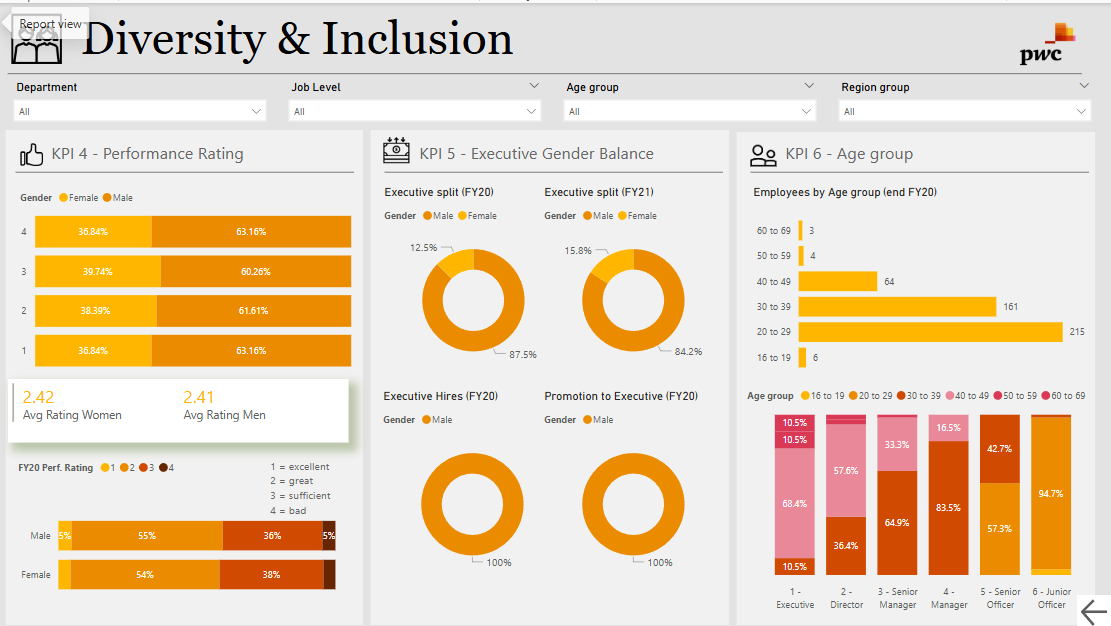

Layout of this report page (visuals, bound fields, positions):
{"tool":"powerbi","page":{"name":"HR Manager (2/2)","canvas":[1280,720],"ordinal":1},"visuals":[{"type":"basicShape","box":[3.9,139.9,418.6,579.7],"z":0},{"type":"slicer","fields":{"Values":["HR Manager.Job Level after FY20 promotions"]},"box":[322.5,83.9,310,55.9],"z":1000},{"type":"slicer","fields":{"Values":["HR Manager.Age group"]},"box":[638.2,83.9,310,55.9],"z":2000},{"type":"textbox","box":[88.7,4.8,1172.9,75.2],"z":3000},{"type":"basicShape","box":[0,60.8,1253,40.5],"z":4000},{"type":"basicShape","box":[422.2,139.6,420,579.7],"z":5000},{"type":"basicShape","box":[9.5,174.9,408,39.5],"z":6000},{"type":"textbox","box":[54.6,154.4,315.4,35.7],"z":7000},{"type":"multiRowCard","fields":{"Values":["HR Manager.Avg Rating Women","HR Manager.Avg Rating Men"]},"box":[10.1,431.1,390.9,72.6],"z":8000},{"type":"hundredPercentStackedBarChart","fields":{"Series":["HR Manager.FY20 Performance Rating"],"Category":["HR Manager.Gender"],"Y":["CountNonNull(HR Manager.Employee ID)"]},"box":[16.8,513.8,374.2,205.5],"z":9000},{"type":"image","box":[854.5,413.3,6.7,35.7],"z":10000},{"type":"image","box":[1129,0,151,94.5],"z":11000},{"type":"image","box":[8.7,0,67.5,81],"z":12000},{"type":"basicShape","box":[842.2,141.8,420,577.5],"z":13000},{"type":"image","box":[19,156.4,35.7,35.7],"z":14000},{"type":"slicer","fields":{"Values":["HR Manager.Last Department in FY20"]},"box":[6.8,83.9,310,55.9],"z":15000},{"type":"slicer","fields":{"Values":["HR Manager.Broad region group: nationality 1"]},"box":[954,83.9,310,55.9],"z":16000},{"type":"textbox","box":[477.9,154.4,315.4,35.7],"z":17000},{"type":"basicShape","box":[432.8,174.9,408,39.5],"z":18000},{"type":"textbox","box":[897.8,154.4,315.4,35.7],"z":19000},{"type":"basicShape","box":[852.7,174.9,408,39.5],"z":20000},{"type":"hundredPercentStackedBarChart","fields":{"Category":["HR Manager.FY20 Performance Rating"],"Series":["HR Manager.Gender"],"Y":["Count(HR Manager.Employee ID)"]},"box":[19,204.4,389.8,225.6],"z":21000},{"type":"textbox","box":[306,516,100.5,81.5],"z":22000},{"type":"donutChart","title":"Executive split (FY21)","fields":{"Category":["HR Manager.Gender"],"Y":["CountNonNull(HR Manager.Employee ID)"]},"box":[621.1,209.9,214.5,220],"z":23000},{"type":"donutChart","title":"Executive split (FY20)","fields":{"Category":["HR Manager.Gender"],"Y":["CountNonNull(HR Manager.Employee ID)"]},"box":[436.8,209.9,214.5,220],"z":24000},{"type":"donutChart","title":"Executive Hires (FY20)","fields":{"Category":["HR Manager.Gender"],"Y":["CountNonNull(HR Manager.Employee ID)"]},"box":[436.7,444.7,214.5,220],"z":25000},{"type":"donutChart","title":"Promotion to Executive (FY20)","fields":{"Category":["HR Manager.Gender"],"Y":["CountNonNull(HR Manager.Employee ID)"]},"box":[621,444.7,214.5,220],"z":26000},{"type":"image","box":[857.8,153,40.2,44.7],"z":27000},{"type":"clusteredBarChart","title":"Employees by Age group (end FY20)","fields":{"Category":["HR Manager.Age group"],"Y":["CountNonNull(HR Manager.Employee ID)"]},"box":[861.2,210,392,225.6],"z":28000},{"type":"hundredPercentStackedColumnChart","fields":{"Category":["HR Manager.Job Level after FY21 promotions"],"Series":["HR Manager.Age group"],"Y":["CountNonNull(HR Manager.Employee ID)"]},"box":[854.5,431.1,406.6,273.6],"z":29000},{"type":"image","box":[436.7,147.4,40.2,44.7],"z":30000},{"type":"actionButton","box":[1237.6,679.1,42.4,40.5],"z":31000},{"type":"textbox","box":[7.7,689.7,397.4,29.9],"z":32000}]}

Visuals, with their boxes on the page's 1280x720 design canvas (x1, y1, x2, y2). These are canvas units, not pixel positions in the 1111x626 screenshot, which may show the page scaled, cropped or inside an application window:
basicShape: [x1=4, y1=140, x2=422, y2=720]
slicer - HR Manager.Job Level after FY20 promotions: [x1=322, y1=84, x2=632, y2=140]
slicer - HR Manager.Age group: [x1=638, y1=84, x2=948, y2=140]
textbox: [x1=89, y1=5, x2=1262, y2=80]
basicShape: [x1=0, y1=61, x2=1253, y2=101]
basicShape: [x1=422, y1=140, x2=842, y2=719]
basicShape: [x1=10, y1=175, x2=418, y2=214]
textbox: [x1=55, y1=154, x2=370, y2=190]
multiRowCard - HR Manager.Avg Rating Women x HR Manager.Avg Rating Men: [x1=10, y1=431, x2=401, y2=504]
hundredPercentStackedBarChart - HR Manager.FY20 Performance Rating x HR Manager.Gender: [x1=17, y1=514, x2=391, y2=719]
image: [x1=854, y1=413, x2=861, y2=449]
image: [x1=1129, y1=0, x2=1280, y2=94]
image: [x1=9, y1=0, x2=76, y2=81]
basicShape: [x1=842, y1=142, x2=1262, y2=719]
image: [x1=19, y1=156, x2=55, y2=192]
slicer - HR Manager.Last Department in FY20: [x1=7, y1=84, x2=317, y2=140]
slicer - HR Manager.Broad region group: nationality 1: [x1=954, y1=84, x2=1264, y2=140]
textbox: [x1=478, y1=154, x2=793, y2=190]
basicShape: [x1=433, y1=175, x2=841, y2=214]
textbox: [x1=898, y1=154, x2=1213, y2=190]
basicShape: [x1=853, y1=175, x2=1261, y2=214]
hundredPercentStackedBarChart - HR Manager.FY20 Performance Rating x HR Manager.Gender: [x1=19, y1=204, x2=409, y2=430]
textbox: [x1=306, y1=516, x2=406, y2=598]
"Executive split (FY21)" donutChart: [x1=621, y1=210, x2=836, y2=430]
"Executive split (FY20)" donutChart: [x1=437, y1=210, x2=651, y2=430]
"Executive Hires (FY20)" donutChart: [x1=437, y1=445, x2=651, y2=665]
"Promotion to Executive (FY20)" donutChart: [x1=621, y1=445, x2=836, y2=665]
image: [x1=858, y1=153, x2=898, y2=198]
"Employees by Age group (end FY20)" clusteredBarChart: [x1=861, y1=210, x2=1253, y2=436]
hundredPercentStackedColumnChart - HR Manager.Job Level after FY21 promotions x HR Manager.Age group: [x1=854, y1=431, x2=1261, y2=705]
image: [x1=437, y1=147, x2=477, y2=192]
actionButton: [x1=1238, y1=679, x2=1280, y2=720]
textbox: [x1=8, y1=690, x2=405, y2=720]
